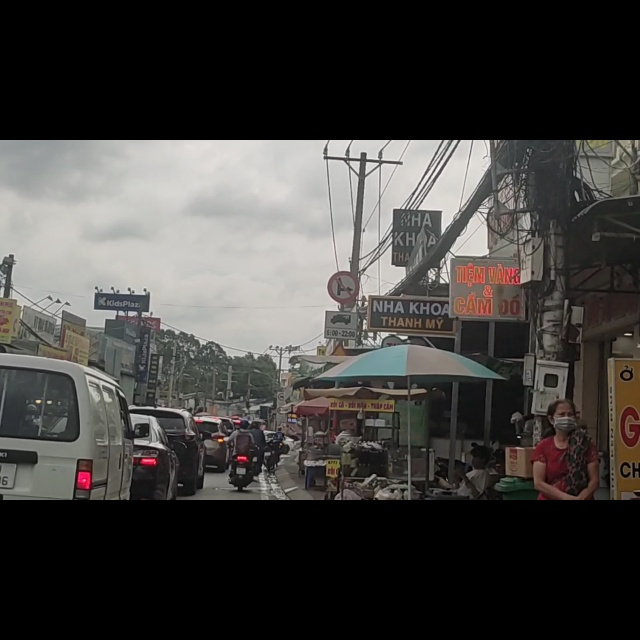bien_cam: (328, 233, 359, 287), (325, 306, 357, 354)
